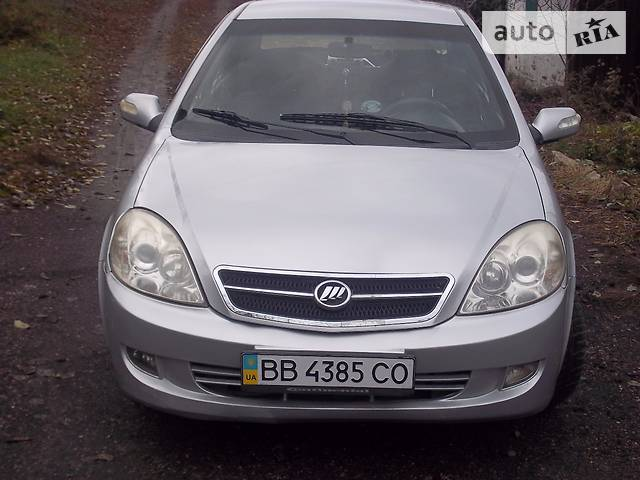car: (97, 1, 585, 429)
plate: (244, 351, 415, 390)
